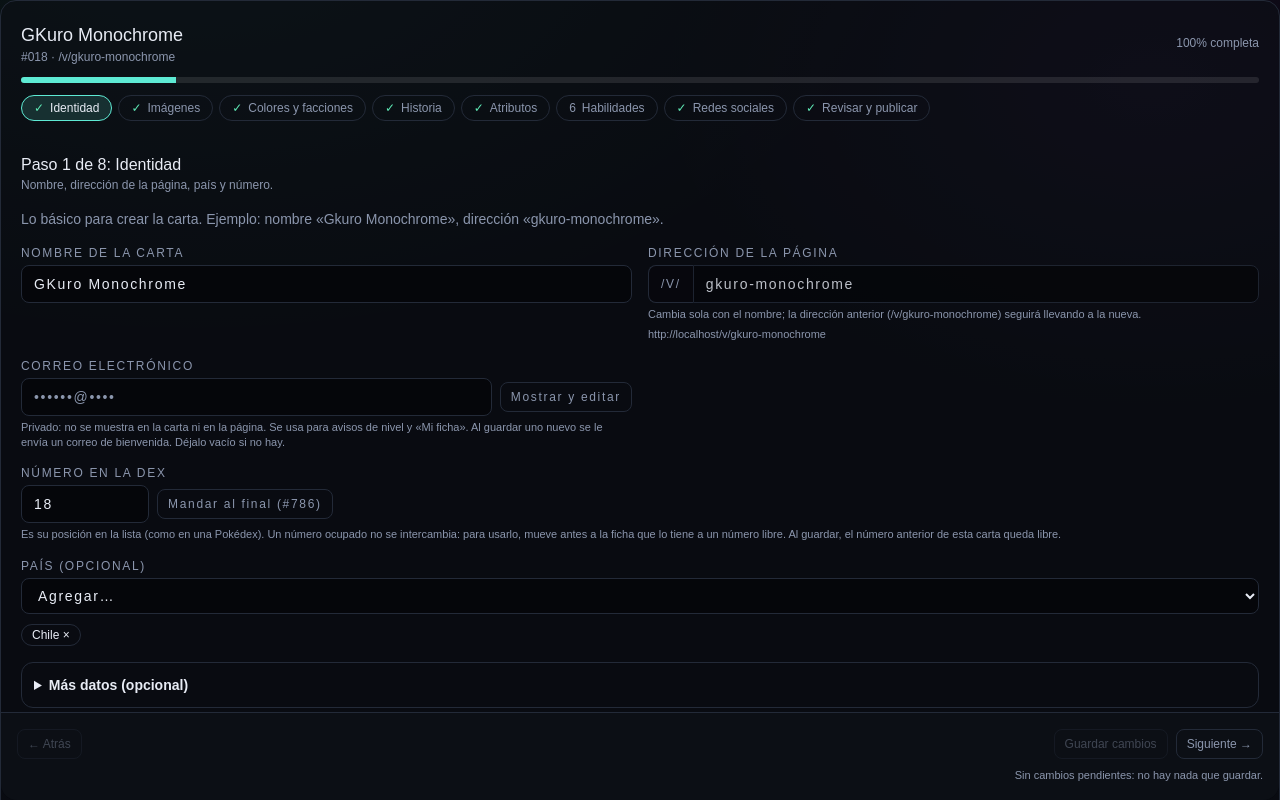
Test: Asistente de carta: edición › el correo de la ficha nace OCULTO (streaming) y se revela solo al pedirlo
expect the button "Mandar al final (#786)" is shown: met, box [157,490,333,520]
expect the element with test id "correo-oculto" shows "••••••@••••": met, box [34,389,116,405]
Click the button "Mostrar y editar": (566, 397) [500,382,632,412]
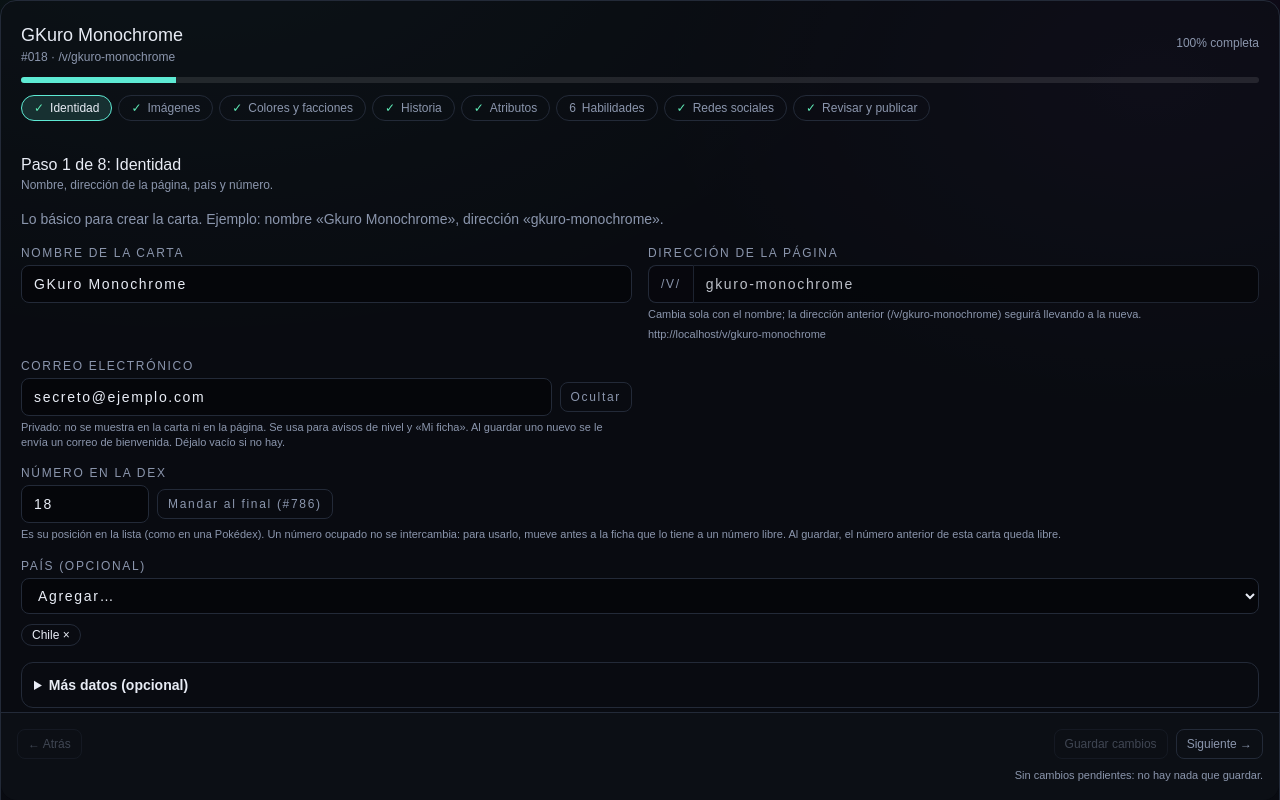
expect the field labelled "Correo electrónico" holds "secreto@ejemplo.com": met, box [21,378,552,416]
